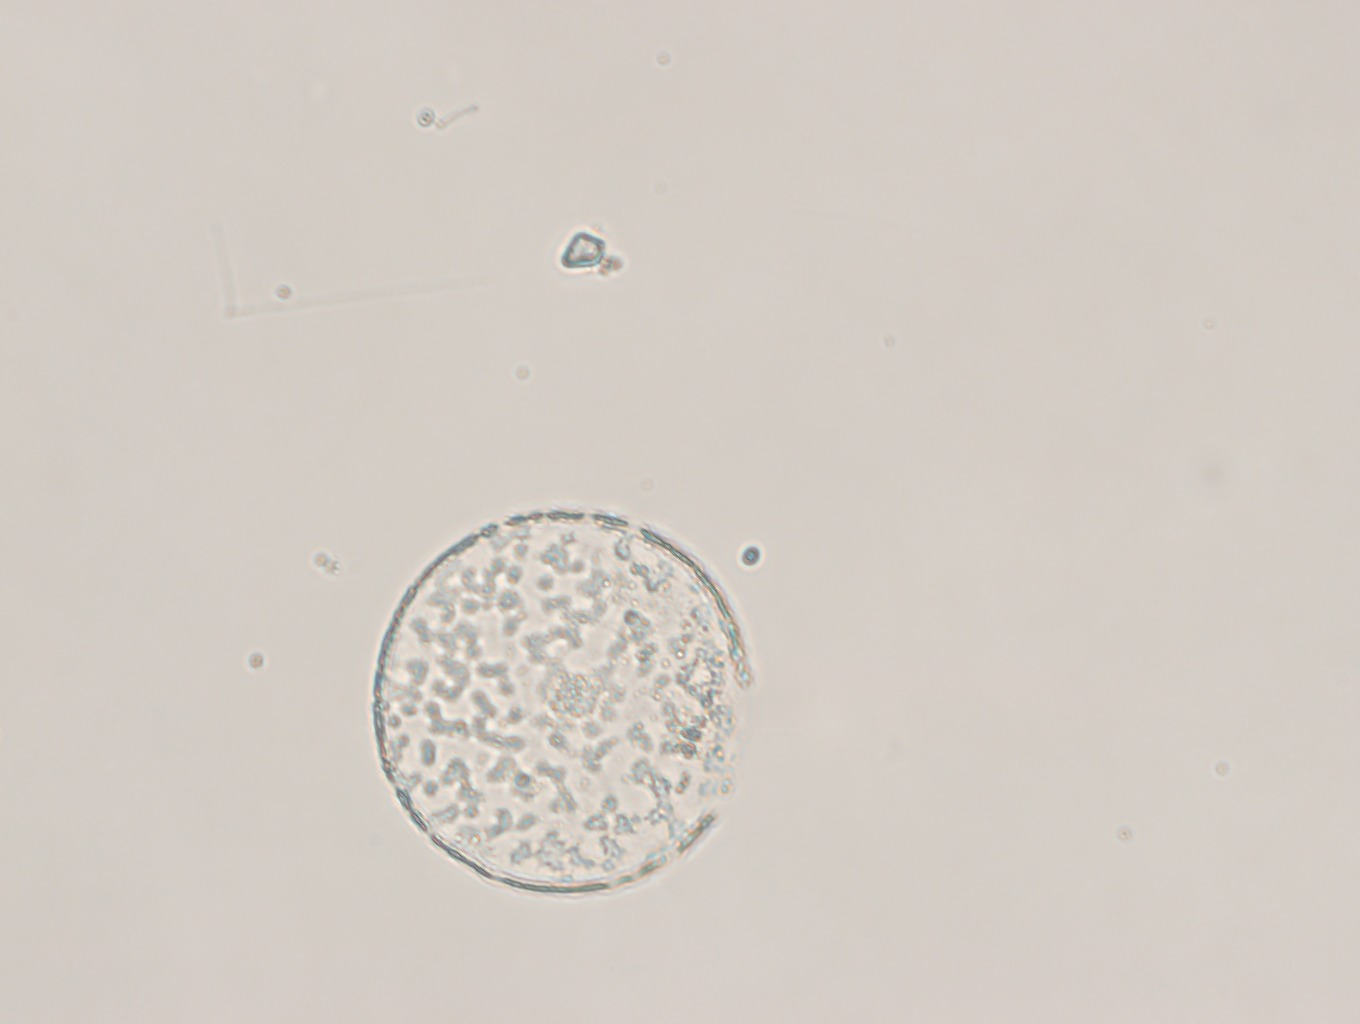coscinodiscus: (360, 502, 764, 901)
